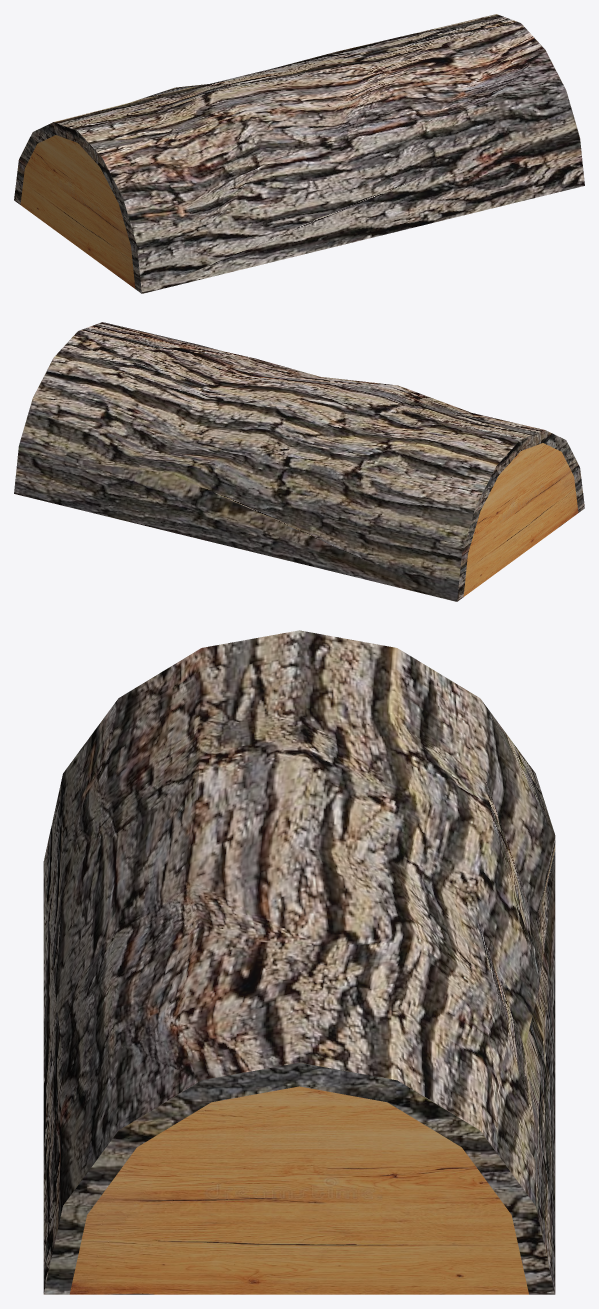
The model's file is Log.fbx.
3 renders of one model, top to bottom at view 1: azimuth 30°, elevation 25°; view 2: azimuth 150°, elevation 25°; view 3: azimuth 270°, elevation 25°, orthographic. The views are drawn at different scales.
Visible parts, largest first — view 1: Cylinder; view 2: Cylinder; view 3: Cylinder.
Boxes of the visible parts, left/top/right/bottom form: Cylinder: left=14, top=14, right=584, bottom=293; Cylinder: left=14, top=322, right=584, bottom=601; Cylinder: left=43, top=630, right=555, bottom=1294.
Size of the model in its own units: 200 by 51.3 by 100.
2 materials, 2 textured.
